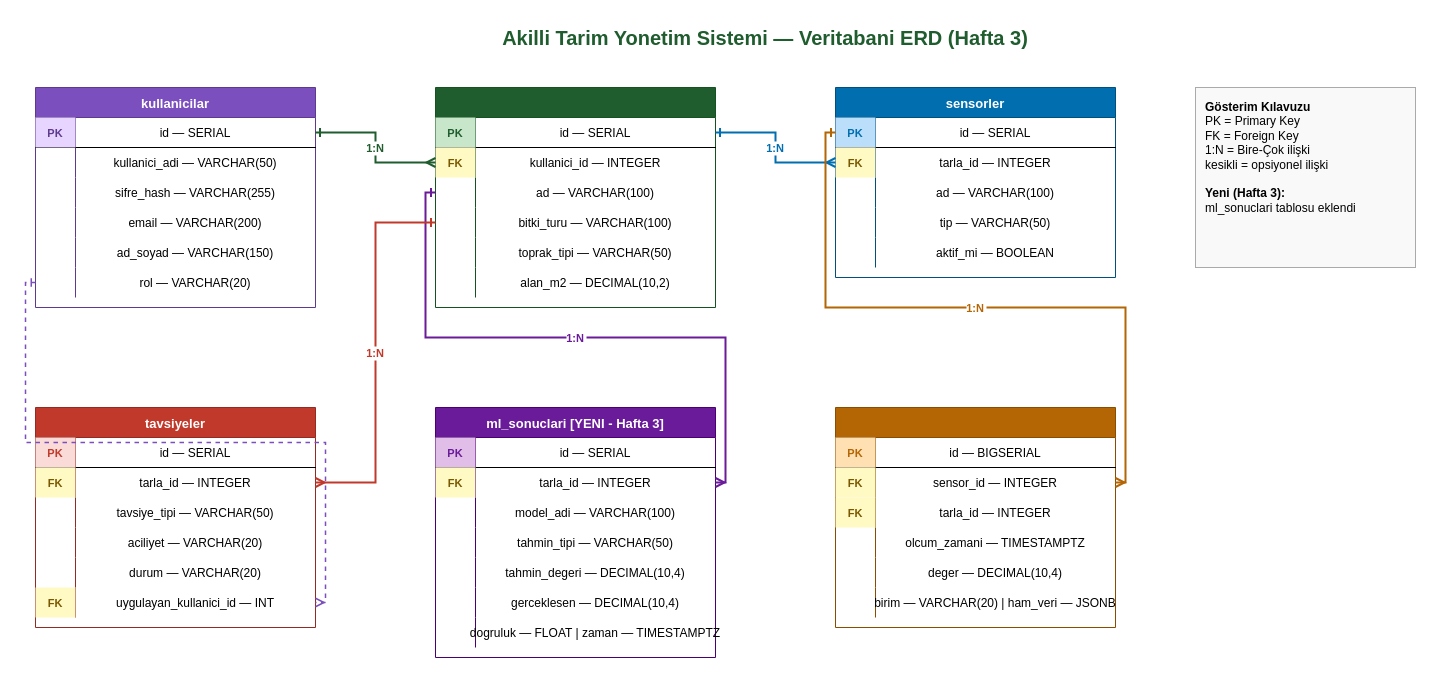
Image size: 1434x675. Some labels were removed from this diagram. Each missing label, with the box of its shape:
olcumler (kritik): (834, 406, 1116, 628)
tarlalar: (434, 86, 716, 308)
